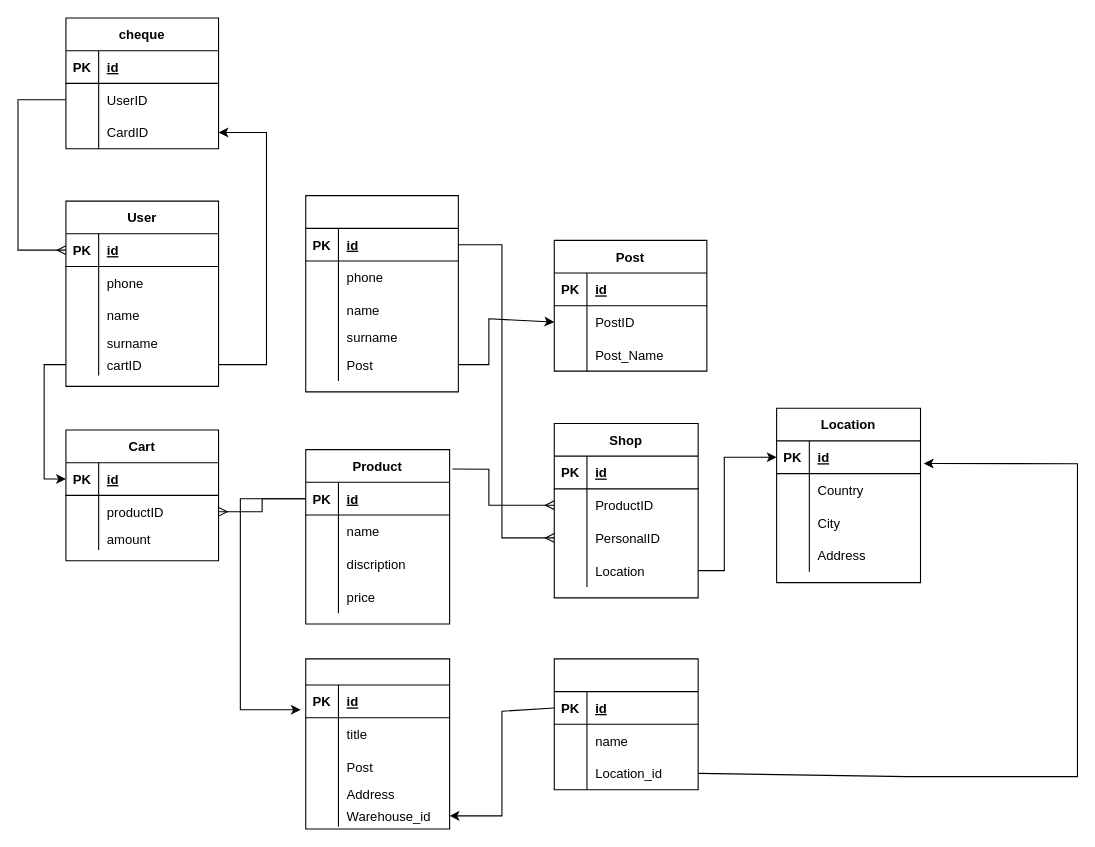
Image size: 1095x847. Some labels were removed from this diagram. Here are the shapes that lost their labels. From the top down, the box of each, then its label:
(305, 195, 458, 392): Personal
(305, 658, 450, 829): Suppliers
(553, 658, 698, 790): warehouse
